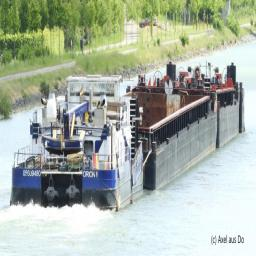tugboat: (9, 68, 148, 228)
